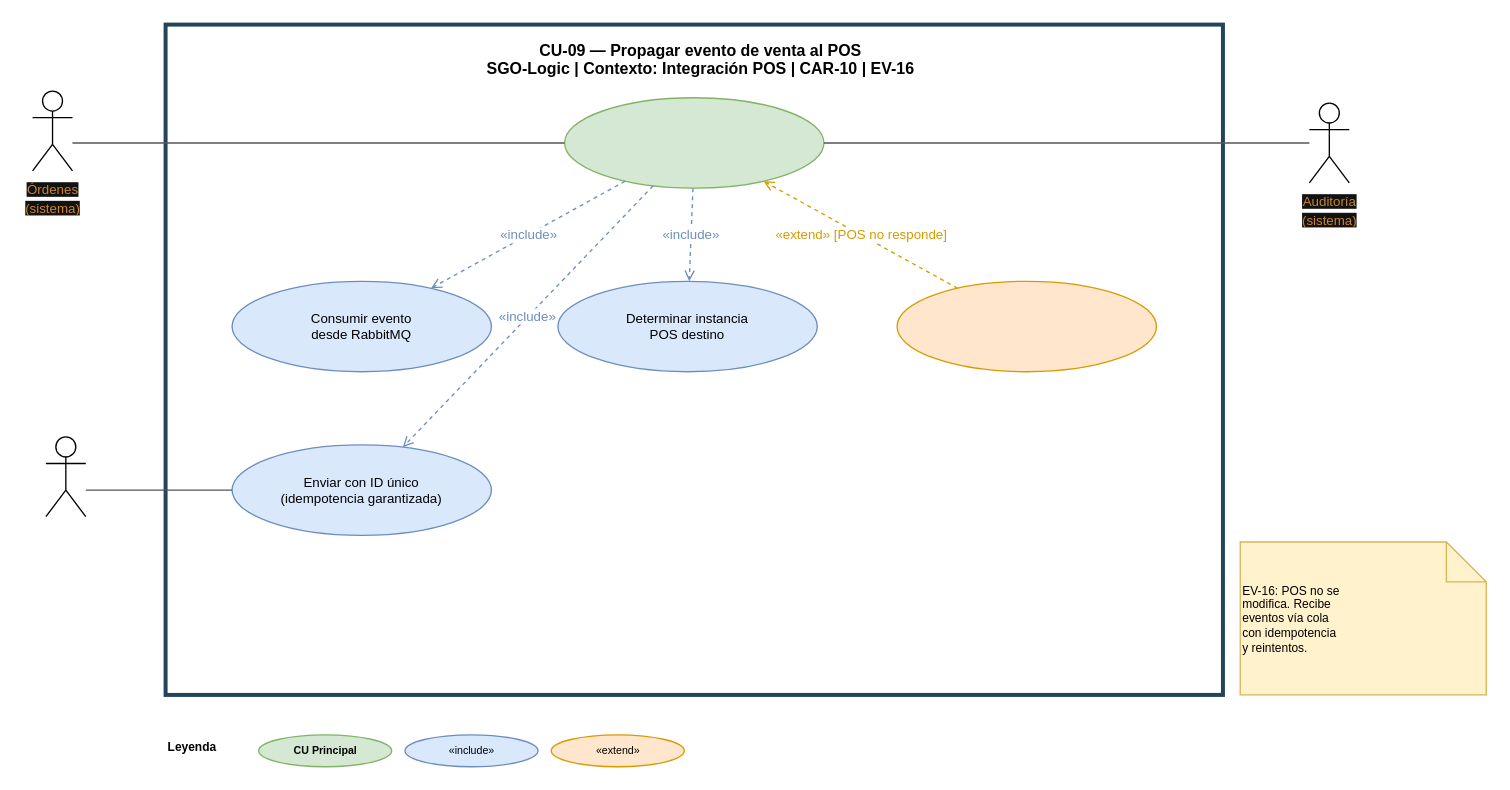
This 1510x790 diagram has some shape labels left out. The shapes that lost their labels are listed below. From the top down, each one's centre as x and y in pixels, then its label:
the point at 693,142: Propagar evento de venta al POS
the point at 1026,326: Mover a DLX si POS no responde
the point at 65,476: POS tiendas (32 instancias)
